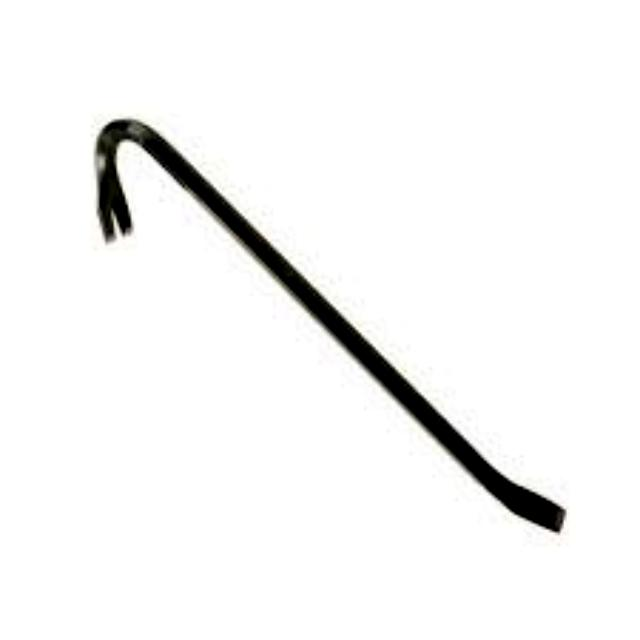crow bar: (86, 107, 574, 538)
